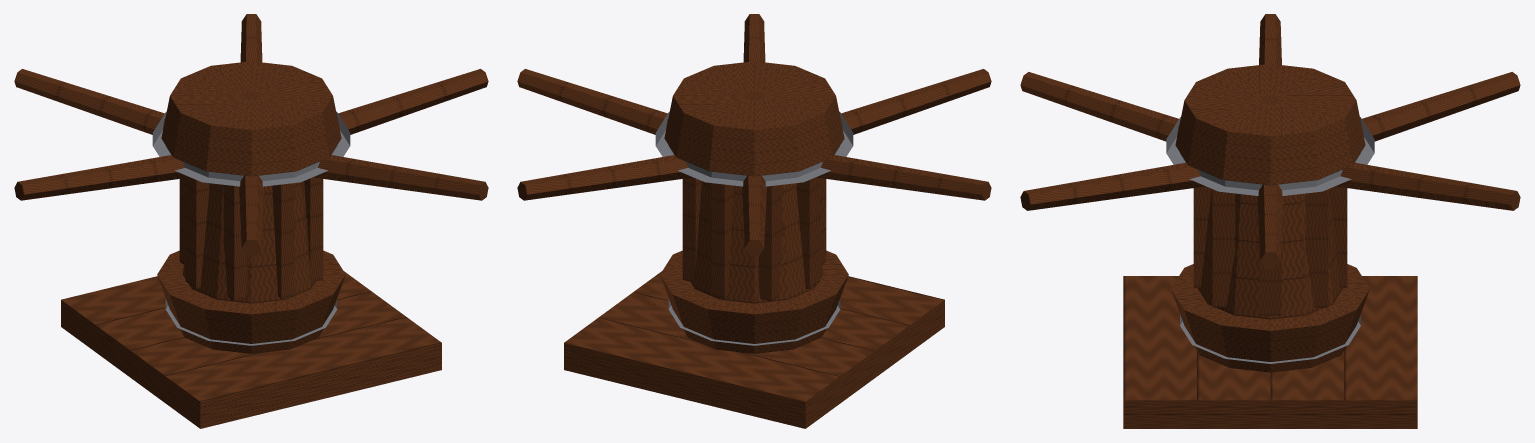
Rendered from pirate-port-and-tall-ships-deck-capstan-c473596a__30155.glb.
3 renders of one model, left to right at view 1: azimuth 30°, elevation 25°; view 2: azimuth 150°, elevation 25°; view 3: azimuth 270°, elevation 25°, orthographic. The views are drawn at different scales.
Visible parts, largest first — view 1: capstan/oak, deck-capstan, capstan/iron; view 2: capstan/oak, deck-capstan, capstan/iron; view 3: capstan/oak, deck-capstan, capstan/iron.
Boxes of the visible parts, bbox=[...] form: capstan/oak: bbox=[14, 14, 488, 353]; deck-capstan: bbox=[61, 271, 441, 428]; capstan/iron: bbox=[152, 111, 350, 345]; capstan/oak: bbox=[517, 14, 991, 353]; deck-capstan: bbox=[564, 271, 944, 428]; capstan/iron: bbox=[655, 111, 853, 345]; capstan/oak: bbox=[1020, 14, 1520, 372]; deck-capstan: bbox=[1123, 276, 1417, 428]; capstan/iron: bbox=[1166, 117, 1374, 363].
Bounding box in the file's own units: 2.51 × 1.3 × 2.21.
2 materials, 1 textured.
